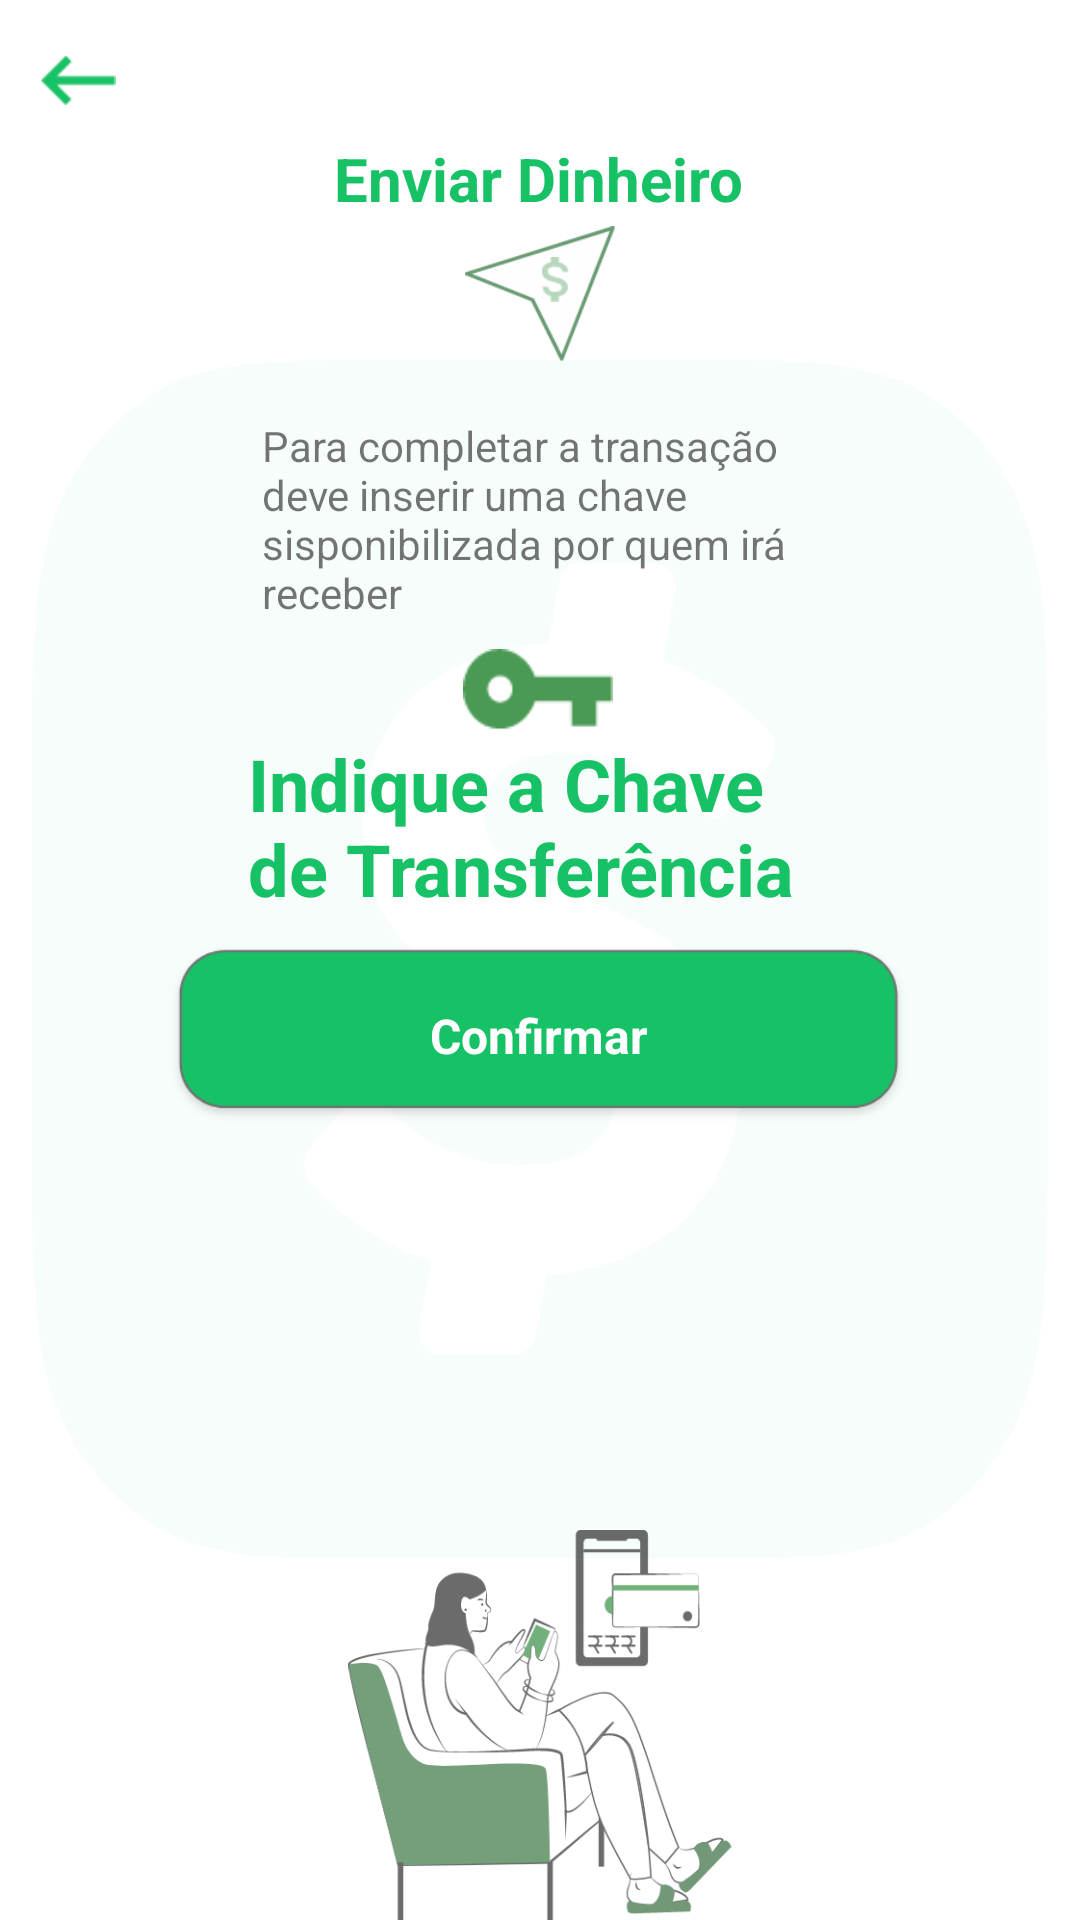

Where icons sit on this 1080×1920 app screen, as (x1, y1, x2, y2):
arrow: (41, 56, 116, 105)
key: (463, 649, 613, 729)
